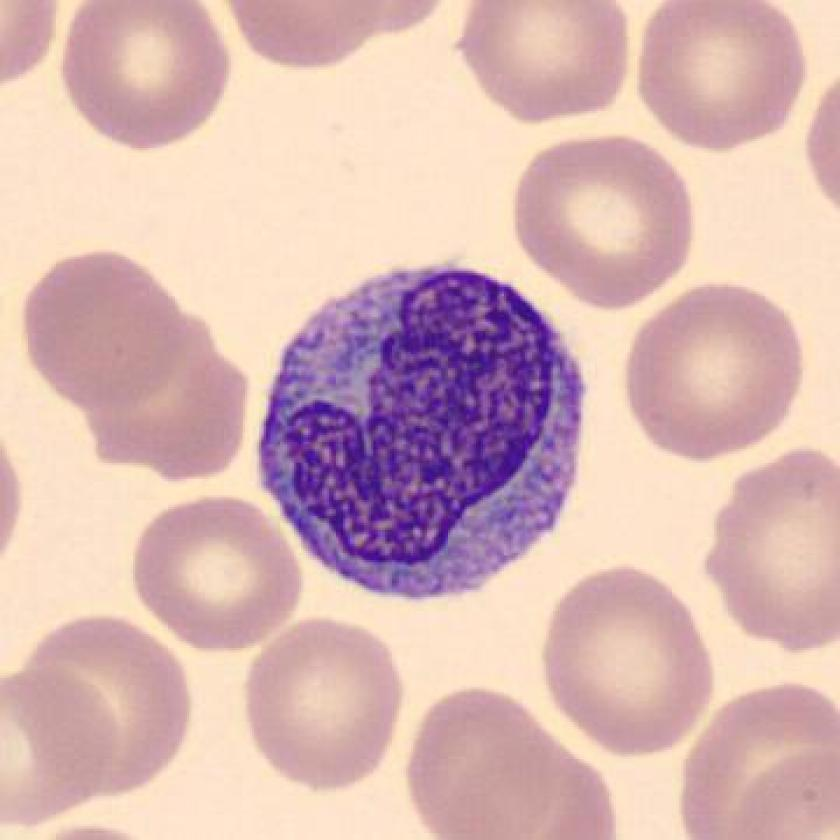monocyte: (241, 247, 608, 617)
